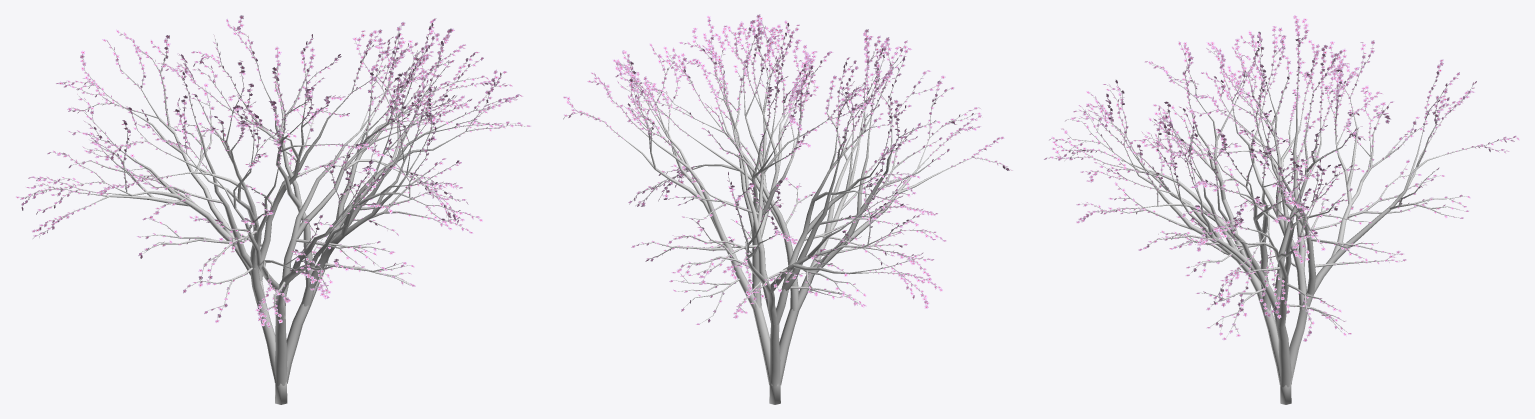
The model's file is cherry_blossom.fbx.
3 views of the same model, side by side, from view 1: azimuth 30°, elevation 25°; view 2: azimuth 150°, elevation 25°; view 3: azimuth 270°, elevation 25° (orthographic). The views are drawn at different scales.
Parts seen in each view (by area): view 1: cherry_blossom, leaves; view 2: cherry_blossom, leaves; view 3: cherry_blossom, leaves.
Boxes of the visible parts, x1=… form: cherry_blossom: x1=20, y1=19, x2=526, y2=404; leaves: x1=16, y1=15, x2=530, y2=327; cherry_blossom: x1=565, y1=19, x2=1006, y2=404; leaves: x1=563, y1=14, x2=1012, y2=324; cherry_blossom: x1=1049, y1=23, x2=1515, y2=404; leaves: x1=1044, y1=15, x2=1519, y2=341.
Size of the model in its own units: 112 by 91.9 by 115.
